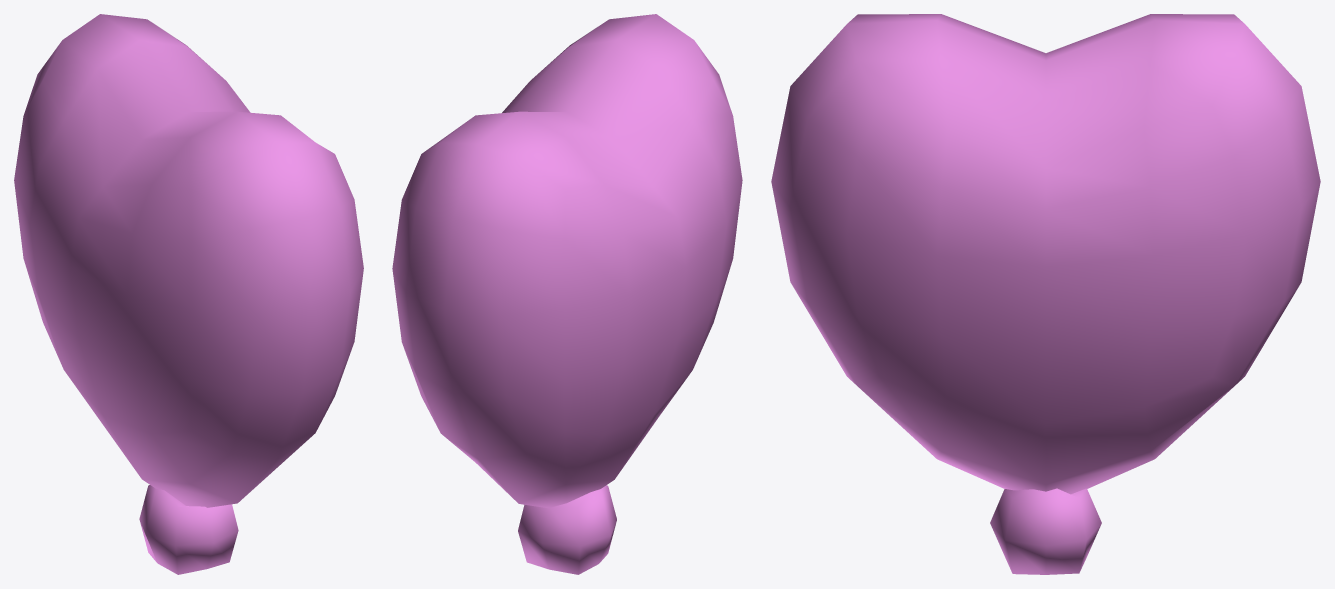
The model's file is Globo_Vida_Extra.fbx.
3 views of the same model, side by side, from view 1: azimuth 30°, elevation 25°; view 2: azimuth 150°, elevation 25°; view 3: azimuth 270°, elevation 25° (orthographic). The views are drawn at different scales.
Visible parts, largest first — view 1: Cube.001; view 2: Cube.001; view 3: Cube.001.
Part boxes in pixels (left/top/right/bottom): Cube.001: left=14, top=14, right=363, bottom=574; Cube.001: left=392, top=14, right=742, bottom=574; Cube.001: left=771, top=14, right=1320, bottom=574.
Bounding box in the file's own units: 90.6 × 176 × 162.
